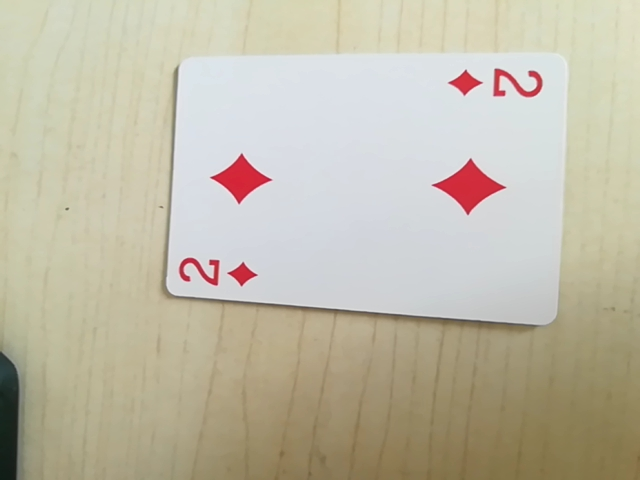fk 2: (446, 60, 553, 108), (174, 249, 265, 297)
